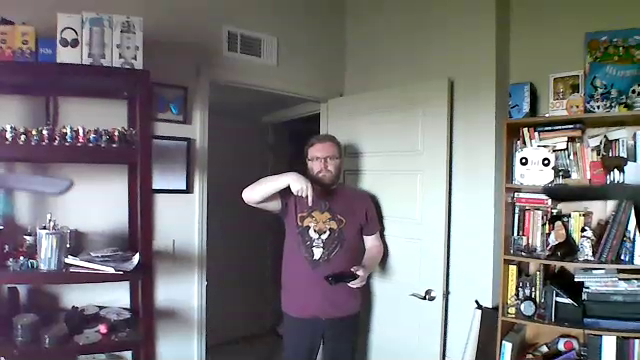down: (285, 166, 317, 210)
